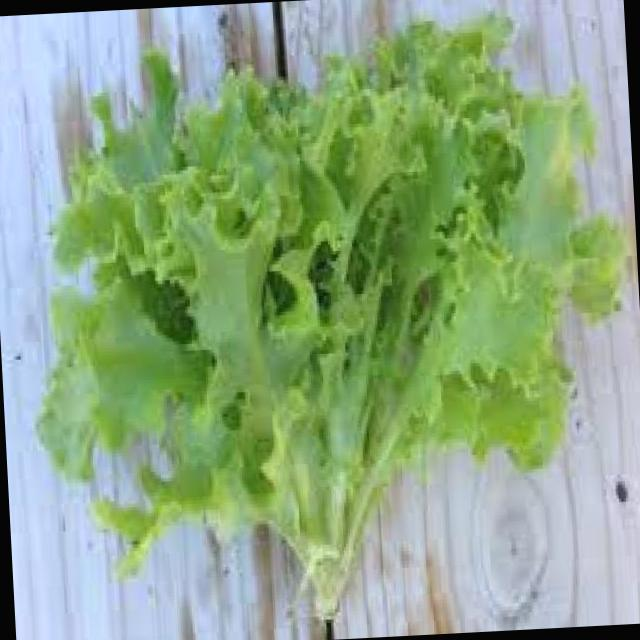Lettuce-Ready-to-Harvest: (41, 19, 620, 607)
